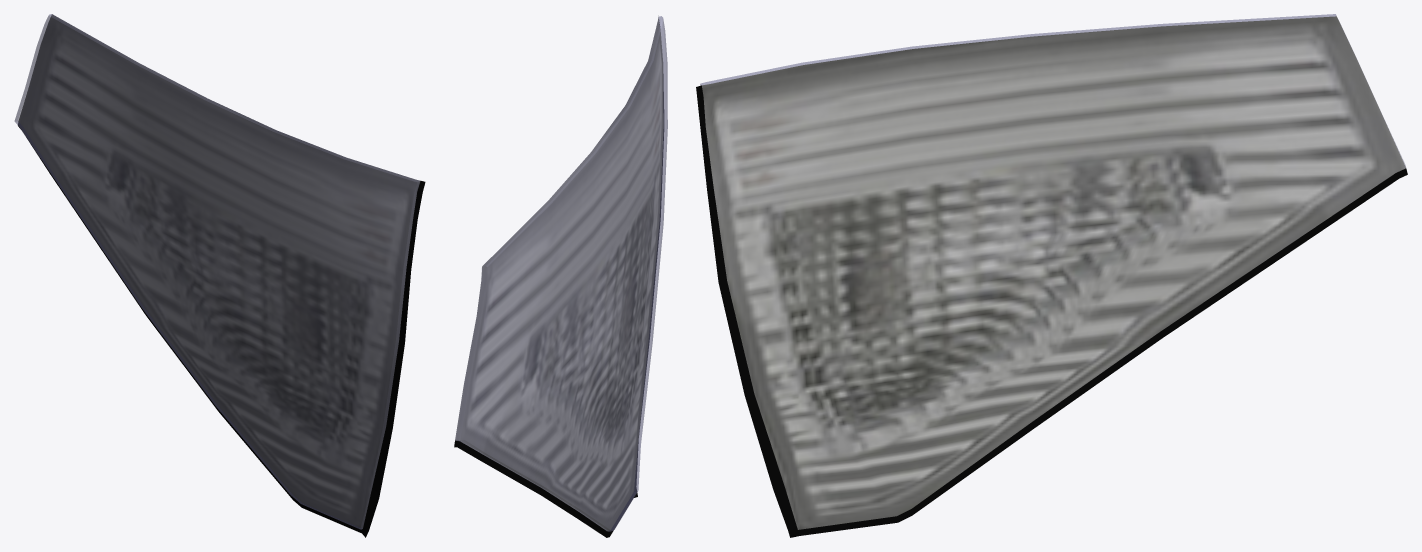
3 renders of one model, left to right at view 1: azimuth 30°, elevation 25°; view 2: azimuth 150°, elevation 25°; view 3: azimuth 270°, elevation 25°, orthographic. The views are drawn at different scales.
Visible parts, largest first — view 1: F183_541D_R_1_DTaSI_F183_541D_R, F183_541D_R_F183_541D_R_2_N, F183_541D_R_F183_541D_R_3_D; view 2: F183_541D_R_1_DTaSI_F183_541D_R, F183_541D_R_F183_541D_R_2_N, F183_541D_R_F183_541D_R_3_D; view 3: F183_541D_R_F183_541D_R_2_N, F183_541D_R_F183_541D_R_3_D, F183_541D_R_1_DTaSI_F183_541D_R.
Part boxes in pixels (x1,y1,x2,y2): F183_541D_R_1_DTaSI_F183_541D_R: [14, 14, 419, 529]; F183_541D_R_F183_541D_R_2_N: [18, 14, 420, 528]; F183_541D_R_F183_541D_R_3_D: [18, 122, 425, 537]; F183_541D_R_1_DTaSI_F183_541D_R: [455, 16, 667, 531]; F183_541D_R_F183_541D_R_2_N: [455, 17, 663, 530]; F183_541D_R_F183_541D_R_3_D: [454, 91, 663, 537]; F183_541D_R_F183_541D_R_2_N: [702, 16, 1405, 529]; F183_541D_R_F183_541D_R_3_D: [696, 85, 1407, 537]; F183_541D_R_1_DTaSI_F183_541D_R: [700, 14, 1405, 166].
Size of the model in its own units: 7.79 by 23.51 by 32.38.
